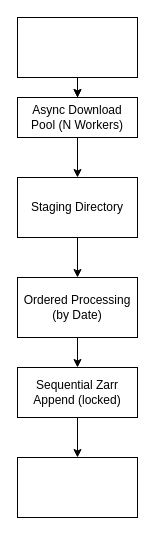
This 155x535 diagram has some shape labels left out. The centre of each missing label's shape, as x and y in pixels:
"Dates (40+ years)" goes at (77,47).
"Metadata Finalized" goes at (77,487).
